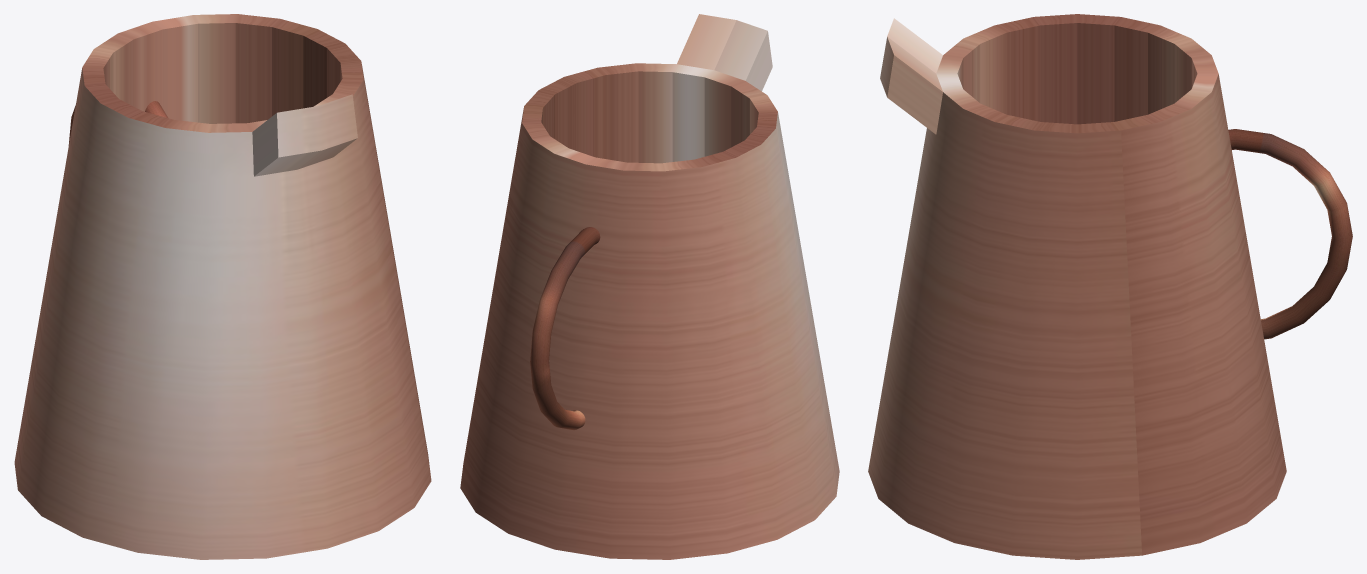
File: copperJug.fbx
3 renders of one model, left to right at view 1: azimuth 30°, elevation 25°; view 2: azimuth 150°, elevation 25°; view 3: azimuth 270°, elevation 25°, orthographic. The views are drawn at different scales.
Visible parts, largest first — view 1: jugBase; view 2: jugBase, handle; view 3: jugBase, handle.
Boxes of the visible parts, x1,y1,x2,y2 form: jugBase: (14,14,431,559); jugBase: (460,14,839,559); handle: (530,227,600,430); jugBase: (868,14,1286,559); handle: (1228,129,1352,339).
Bounding box in the file's own units: 0.2 × 0.2292 × 0.2316.
